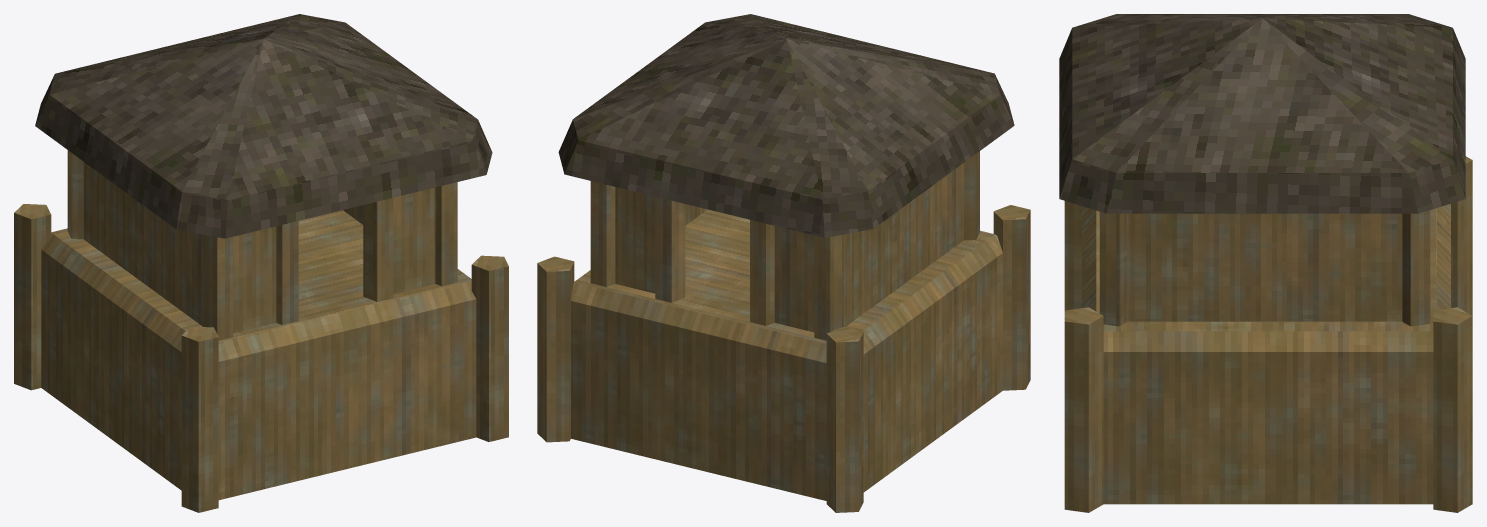
The model's file is hut 1.fbx.
3 views of the same model, side by side, from view 1: azimuth 30°, elevation 25°; view 2: azimuth 150°, elevation 25°; view 3: azimuth 270°, elevation 25° (orthographic). The views are drawn at different scales.
Visible parts, largest first — view 1: hut; view 2: hut; view 3: hut.
Boxes of the visible parts, x1=… form: hut: x1=14, y1=14, x2=508, y2=512; hut: x1=537, y1=14, x2=1030, y2=512; hut: x1=1059, y1=14, x2=1472, y2=512.
Bounding box in the file's own units: 976 × 1072 × 984.
